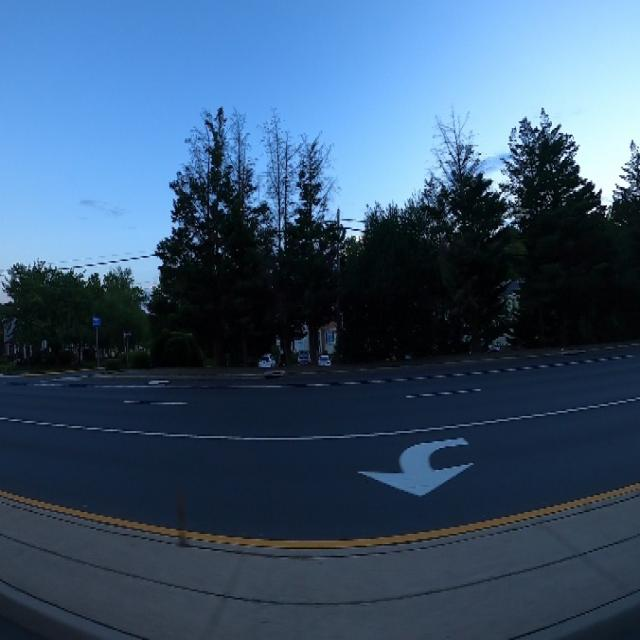cars: (255, 346, 279, 382), (296, 343, 312, 372), (316, 349, 332, 374)
